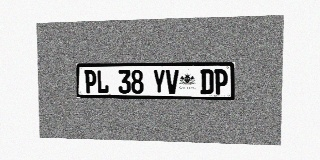3: (118, 70, 131, 94)
8: (131, 70, 143, 94)
D: (200, 69, 214, 94)
L: (96, 70, 109, 93)
P: (214, 69, 228, 94), (84, 70, 96, 93)
V: (166, 70, 179, 94)
Y: (153, 70, 165, 94)
